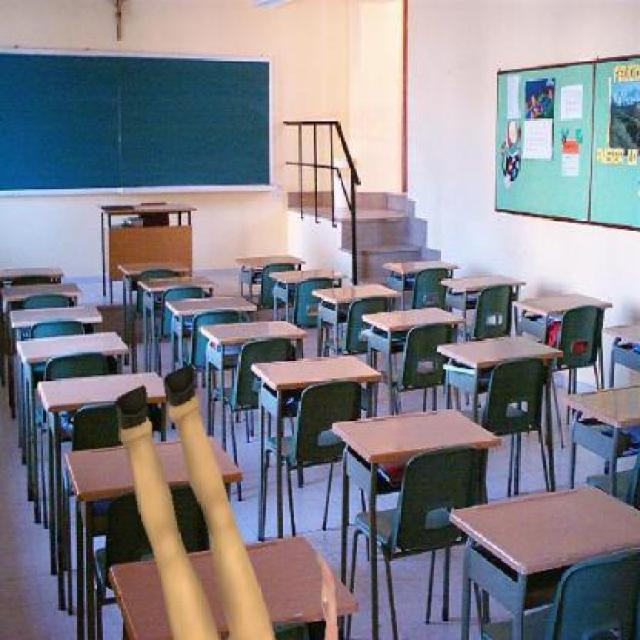Person: (111, 363, 346, 639)
